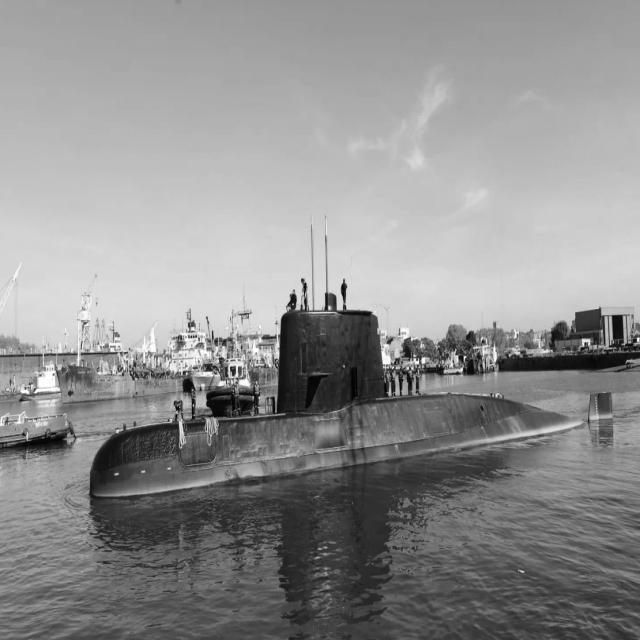submarine: (84, 210, 624, 515)
